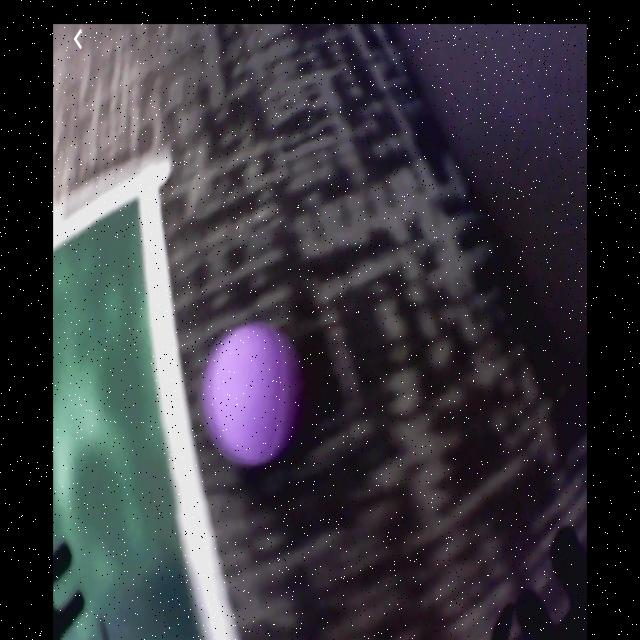ball: (206, 324, 302, 471)
